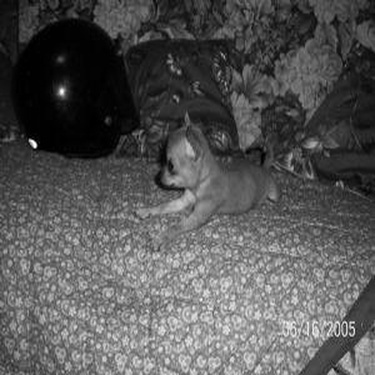dog: (120, 102, 294, 238)
